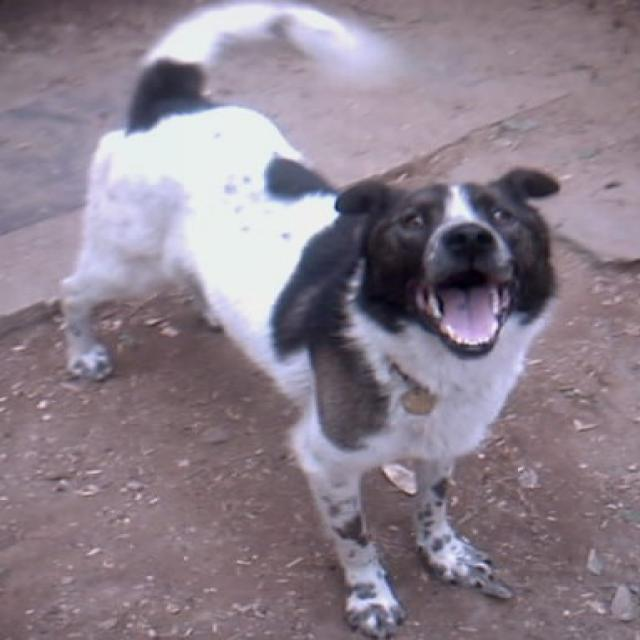Dogs: (57, 0, 561, 639)
